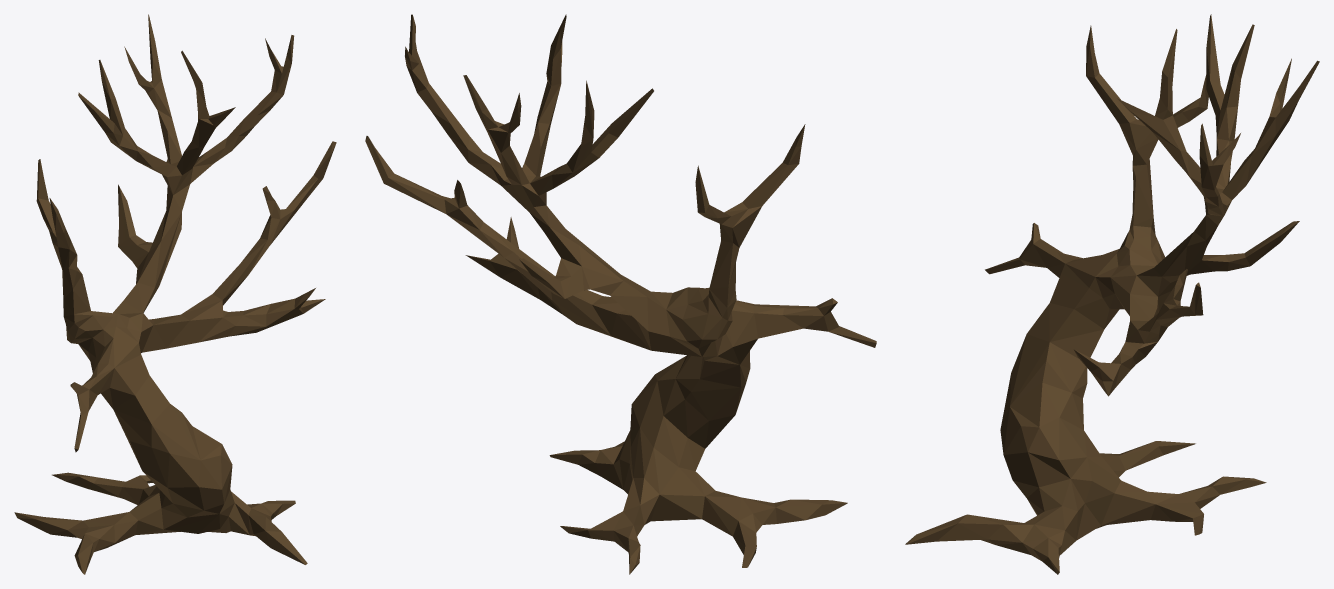
The model's file is Tree_08.glb.
3 views of the same model, side by side, from view 1: azimuth 30°, elevation 25°; view 2: azimuth 150°, elevation 25°; view 3: azimuth 270°, elevation 25° (orthographic). The views are drawn at different scales.
Visible parts, largest first — view 1: Tree_08_LOD0; view 2: Tree_08_LOD0; view 3: Tree_08_LOD0.
Part boxes in pixels (left/top/right/bottom): Tree_08_LOD0: left=14, top=14, right=336, bottom=574; Tree_08_LOD0: left=365, top=14, right=876, bottom=574; Tree_08_LOD0: left=905, top=14, right=1319, bottom=574.
Size of what is drawn, in the model's own units: 5 by 6.05 by 4.35.
Materials: 1 (1 with a texture image).
